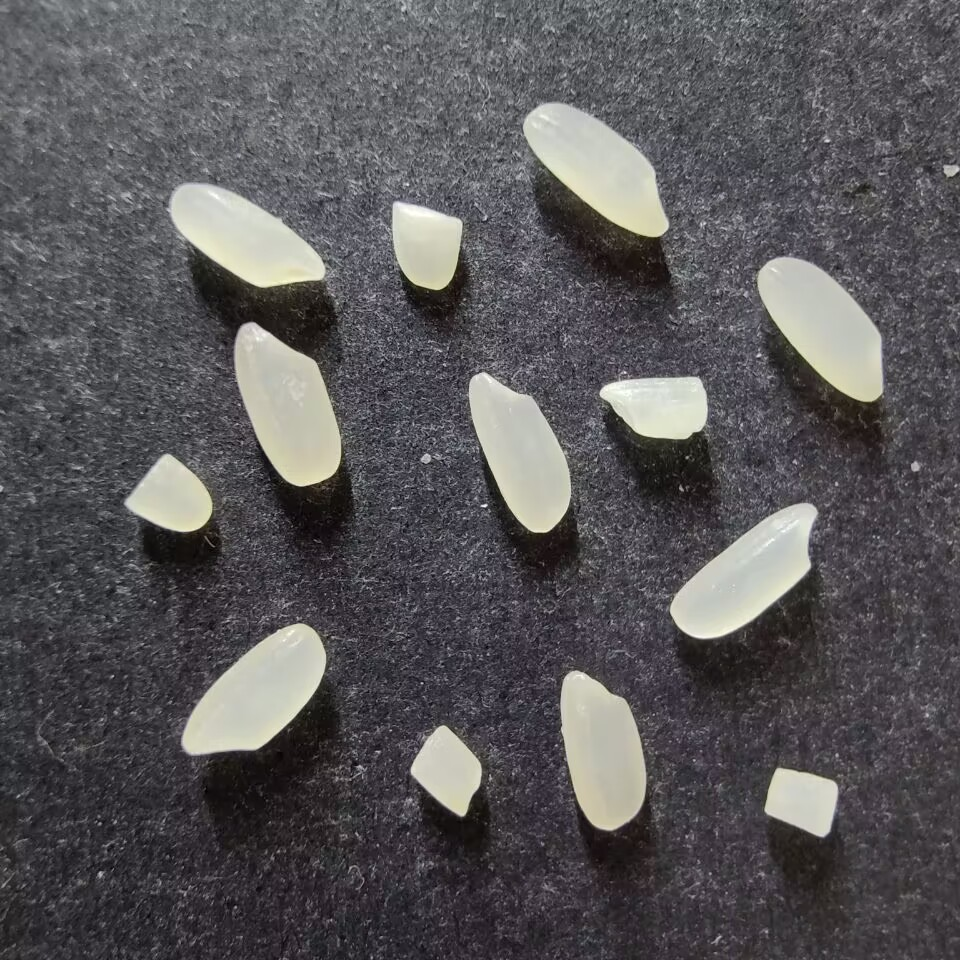broken: (598, 375, 708, 440), (125, 453, 212, 532), (408, 725, 482, 817), (391, 201, 461, 291), (763, 767, 838, 837)
rice: (669, 502, 818, 639), (522, 102, 669, 238), (180, 623, 326, 754), (756, 256, 884, 403), (233, 322, 341, 486), (467, 372, 571, 533), (170, 182, 325, 288), (559, 669, 646, 830)
